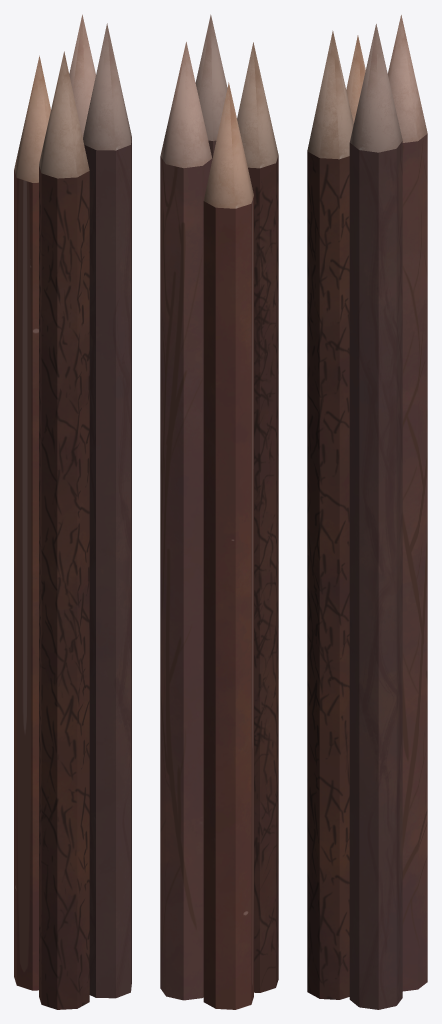
File: Model_Palisade_01.fbx
3 renders of one model, left to right at view 1: azimuth 30°, elevation 25°; view 2: azimuth 150°, elevation 25°; view 3: azimuth 330°, elevation 25°, orthographic.
Visible parts, largest first — view 1: pCylinder13; view 2: pCylinder13; view 3: pCylinder13.
Part boxes in pixels (x1,y1,x2,y2): pCylinder13: (14, 14, 131, 1009); pCylinder13: (160, 14, 278, 1009); pCylinder13: (307, 15, 427, 1009).
Size of the model in its own units: 16.81 by 176 by 16.87.
Materials: 4 (4 with a texture image).
